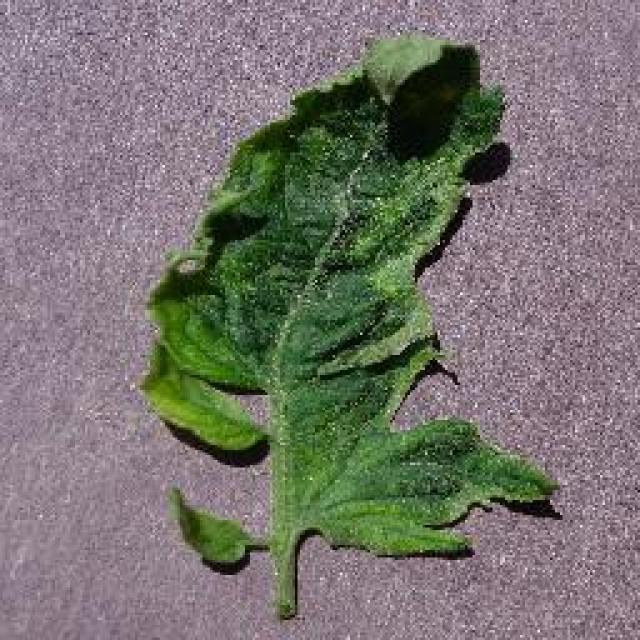Tomato spider mites leaf: (141, 35, 561, 570)
